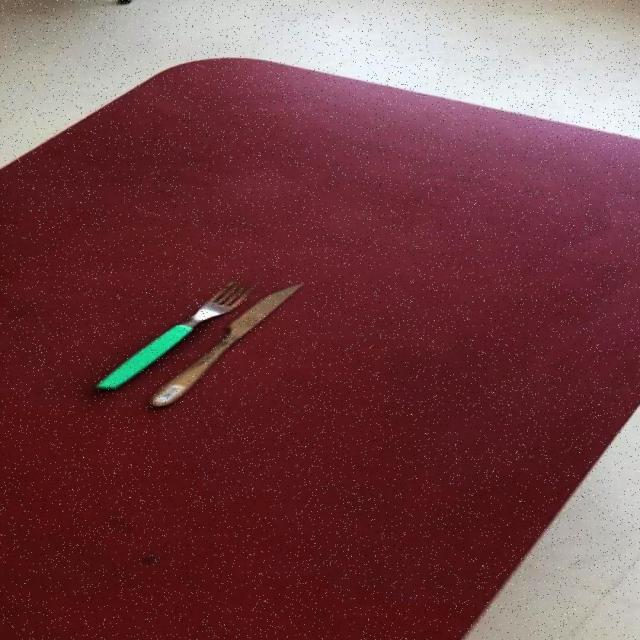Fork: (147, 282, 303, 407), (94, 279, 252, 391)
Knife: (147, 281, 303, 408)
